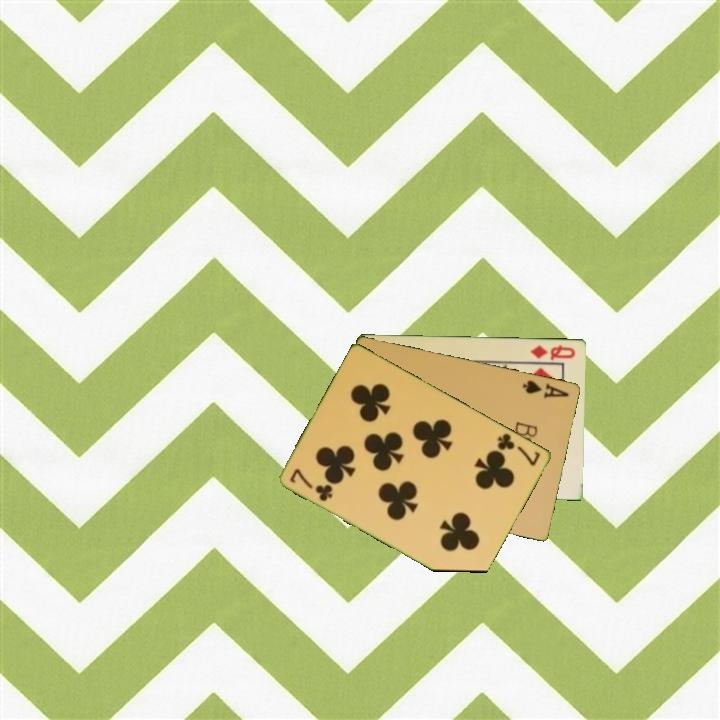7c: (494, 429, 544, 469), (286, 465, 336, 504)
As: (519, 376, 572, 401)
Qd: (527, 341, 578, 362)
